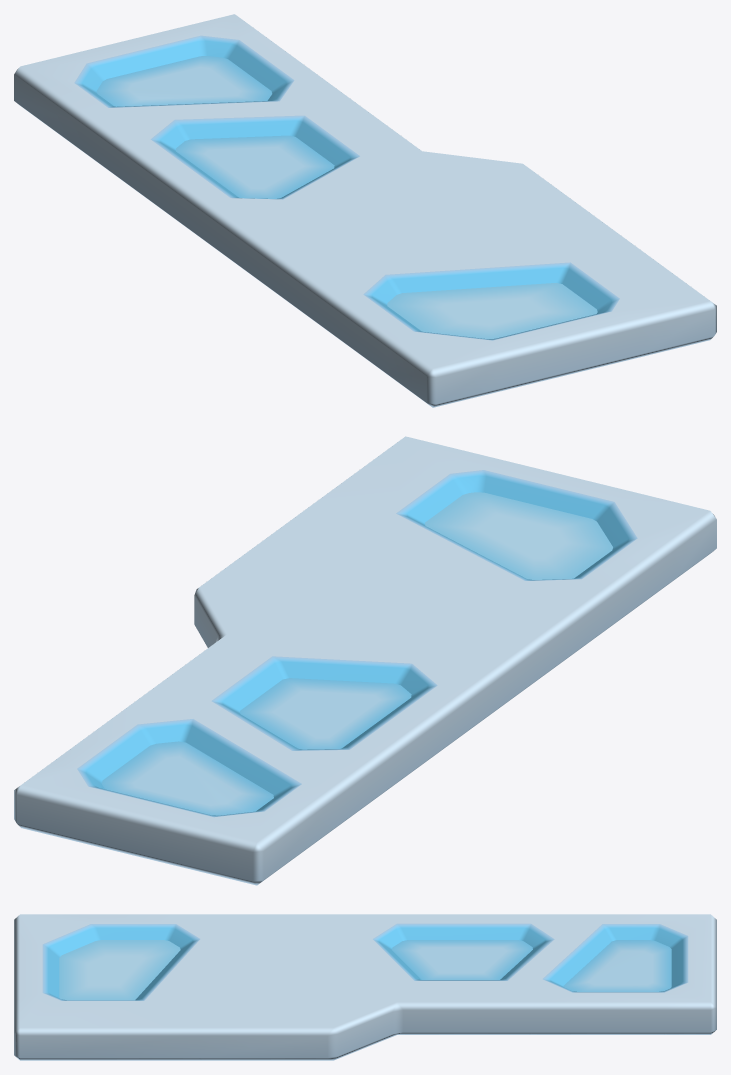
The model's file is obstacle_2_002.fbx.
The picture shows the model from 3 angles, top to bottom: view 1: azimuth 30°, elevation 25°; view 2: azimuth 150°, elevation 25°; view 3: azimuth 270°, elevation 25°; orthographic projection. The views are drawn at different scales.
Visible parts, largest first — view 1: obstacle_2_002; view 2: obstacle_2_002; view 3: obstacle_2_002.
Part boxes in pixels (x1,y1,x2,y2): obstacle_2_002: (14,14,716,407); obstacle_2_002: (14,436,716,885); obstacle_2_002: (14,914,716,1060).
Size of the model in its own units: 231 by 579 by 30.
